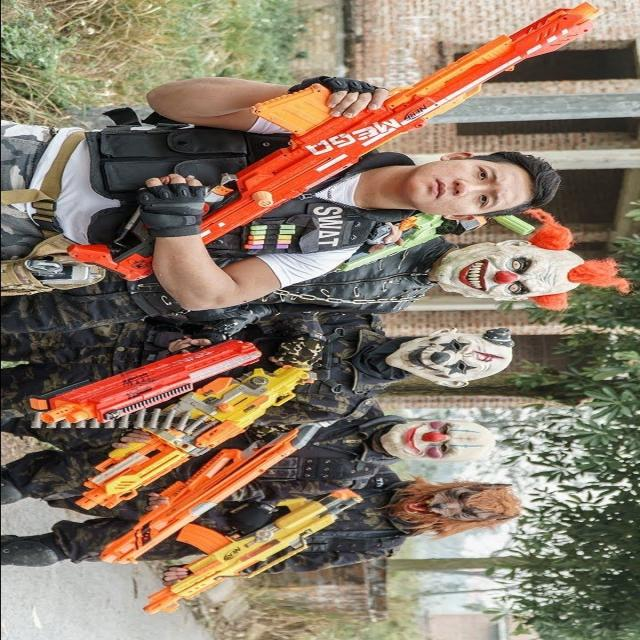Nerf gun: (63, 0, 604, 286), (59, 358, 311, 515), (90, 419, 333, 568), (136, 486, 371, 622), (23, 335, 267, 425)
